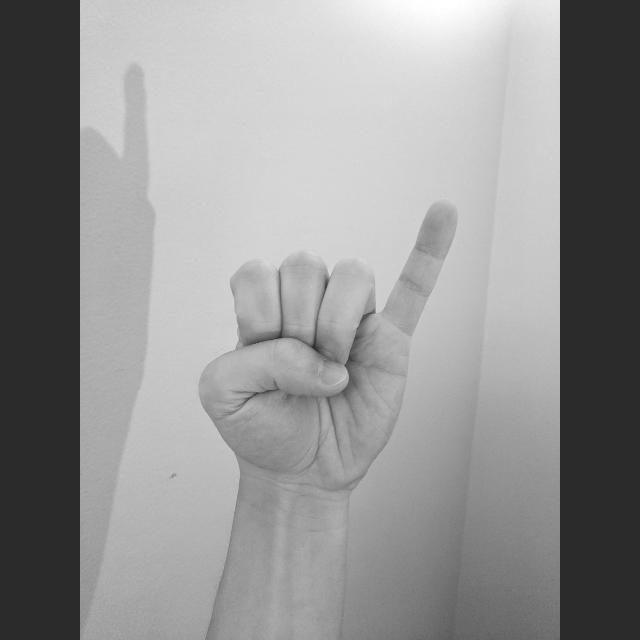I: (193, 194, 463, 496)
